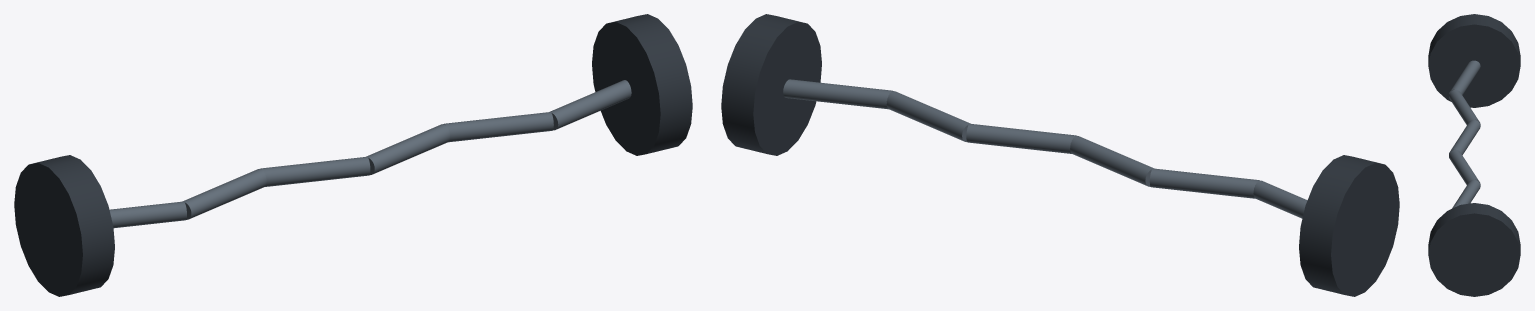
Rendered from ez_bar.glb.
3 views of the same model, side by side, from view 1: azimuth 30°, elevation 25°; view 2: azimuth 150°, elevation 25°; view 3: azimuth 270°, elevation 25° (orthographic). The views are drawn at different scales.
Visible parts, largest first — view 1: weight (×2), angledBar (×6); view 2: weight (×2), angledBar (×6); view 3: weight (×2), angledBar (×5).
Boxes of the visible parts, bbox=[...] form: weight (×2): bbox=[14, 14, 692, 296]; angledBar (×6): bbox=[109, 80, 631, 228]; weight (×2): bbox=[721, 14, 1399, 296]; angledBar (×6): bbox=[783, 79, 1307, 218]; weight (×2): bbox=[1428, 14, 1520, 296]; angledBar (×5): bbox=[1449, 60, 1480, 208].
Bounding box in the file's own units: 1.33 × 0.26 × 0.26.
